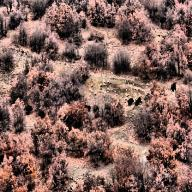boar: (24, 104, 34, 116), (125, 95, 133, 106), (171, 80, 177, 93), (135, 95, 141, 105)
